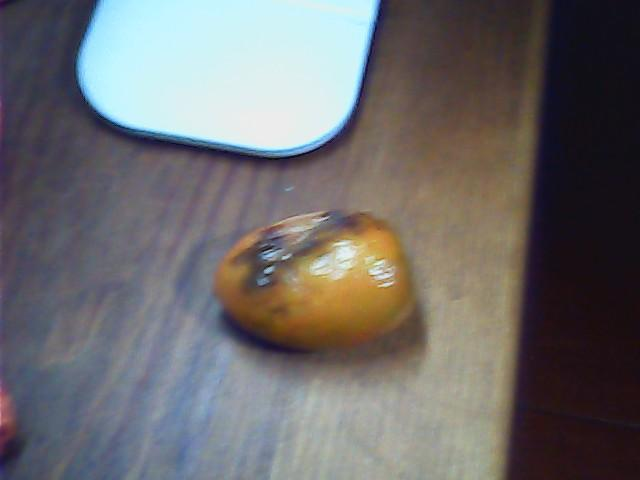defectuoso: (212, 212, 418, 348)
